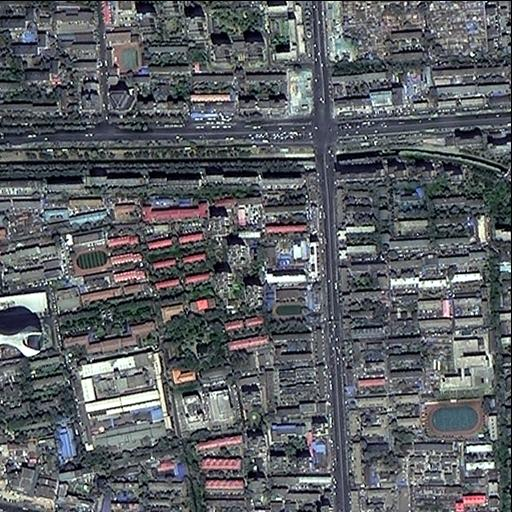school: (419, 325, 494, 442), (66, 228, 110, 279), (102, 25, 143, 78), (266, 282, 312, 325)
